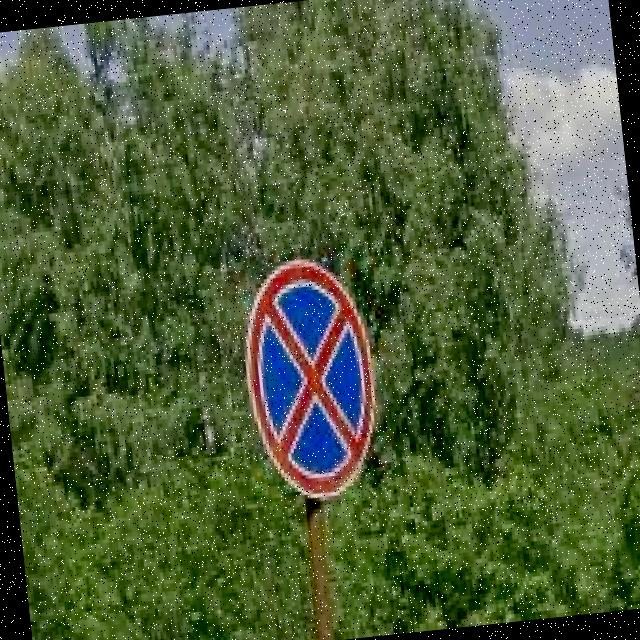Zakaz zatrzymywania sie: (235, 249, 388, 507)
